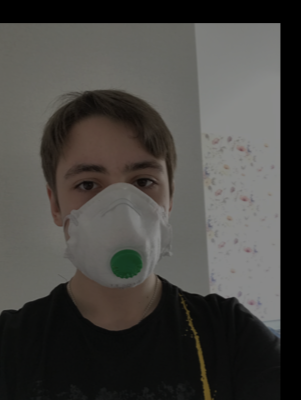with_mask: (57, 133, 171, 288)
